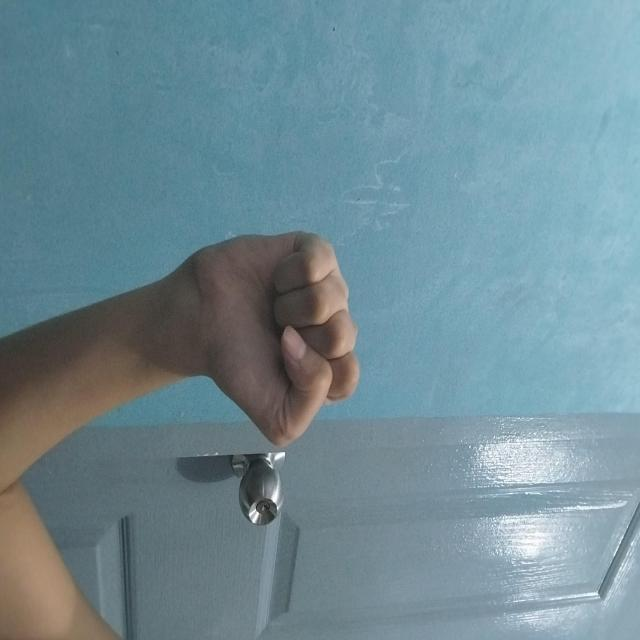S: (228, 279, 446, 438)
